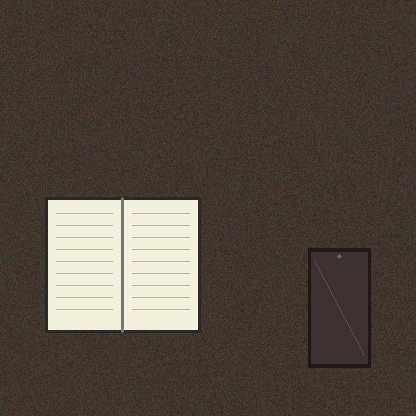book: (46, 198, 199, 331)
cell_phone: (308, 248, 370, 367)
